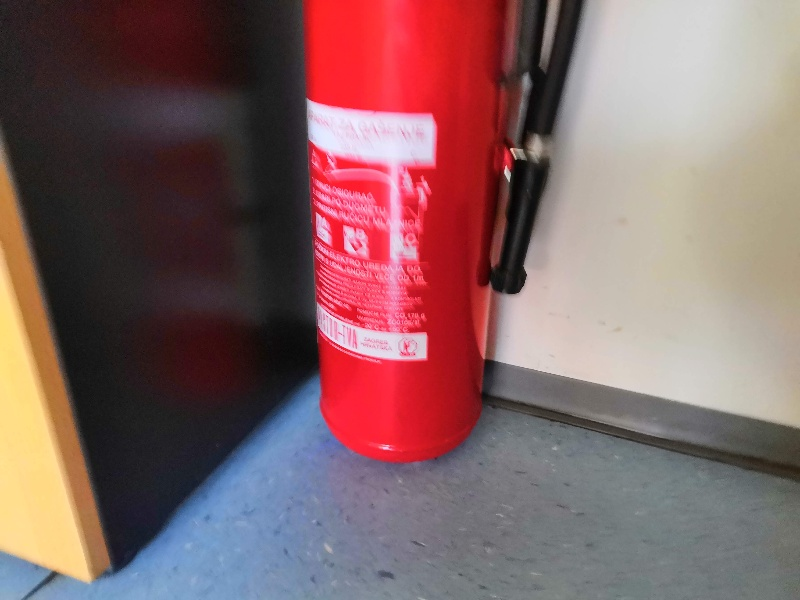vataparat: (301, 1, 583, 462)
